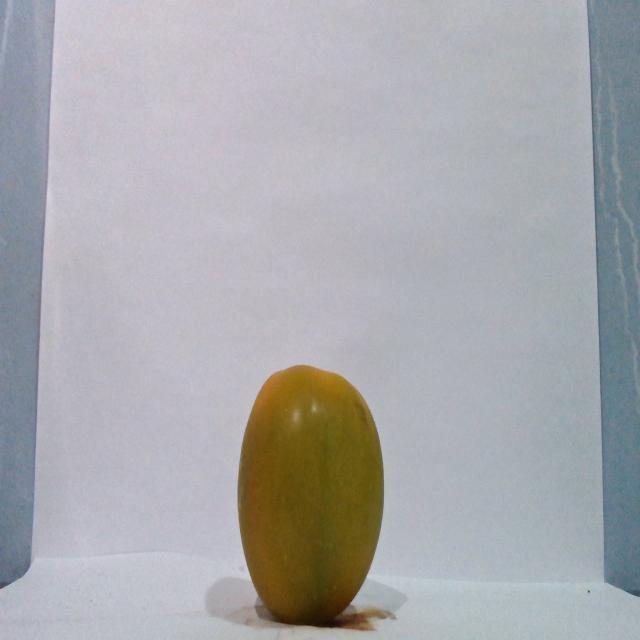Red: (235, 363, 385, 624)
